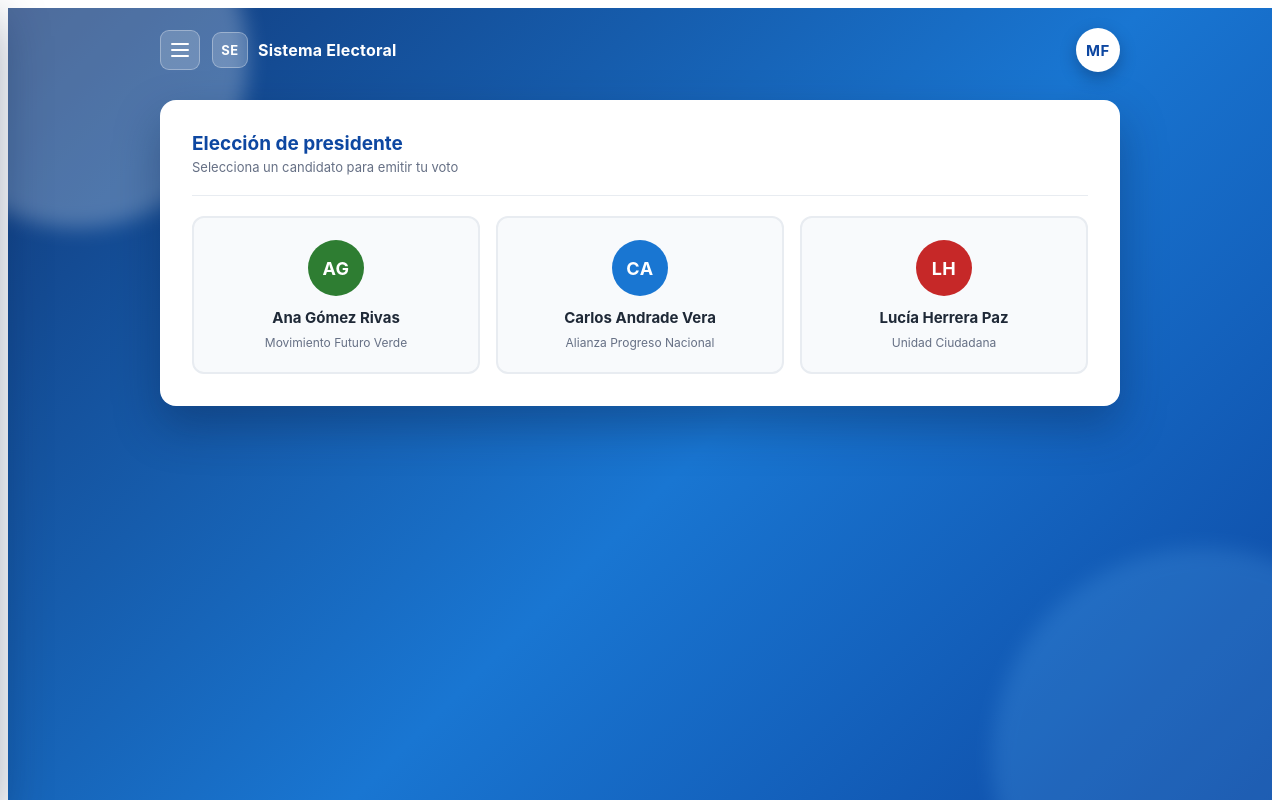
Scenario: PageDatosVotanteComponent › should toggle the dropdown when the avatar is clicked twice
This screenshot has width=1280, height=800.
Click the button with id "avatar-usuario": click(1098, 50) [1076,28,1120,72]
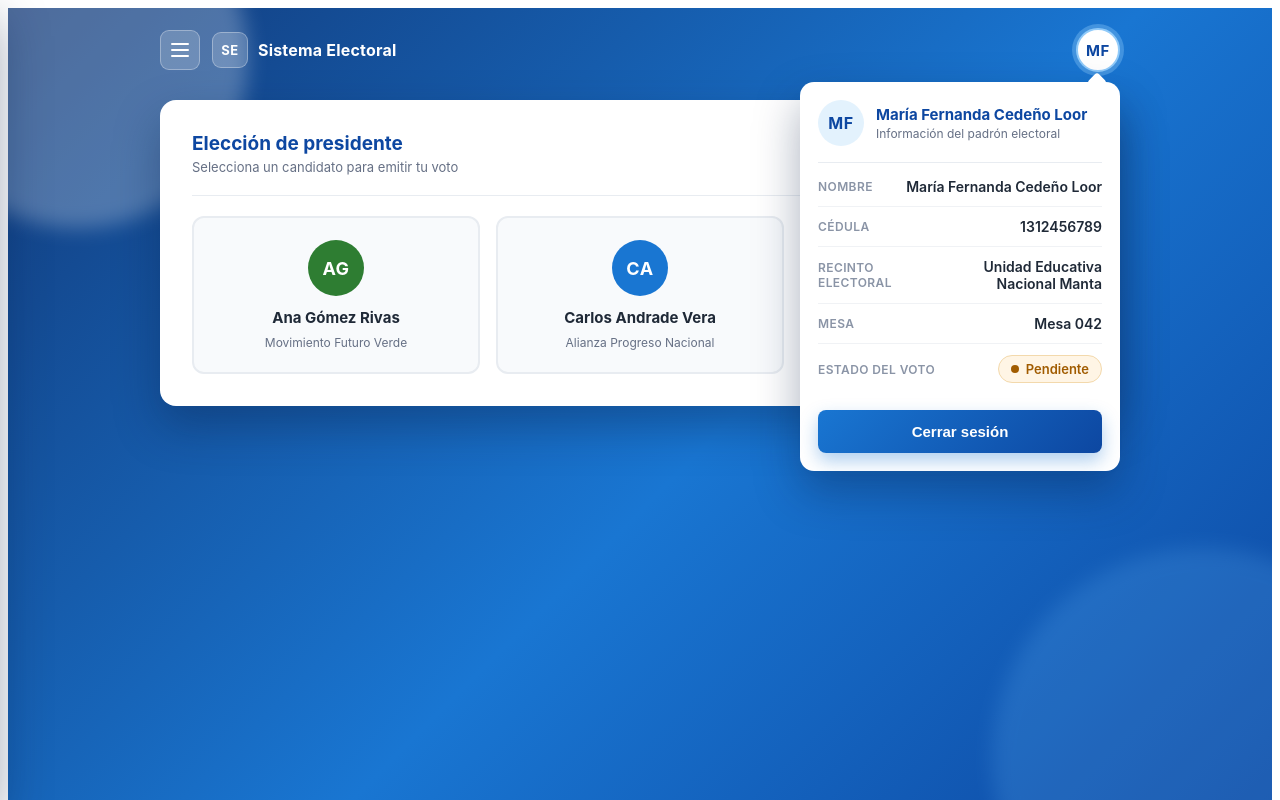
Click the button with id "avatar-usuario": click(1098, 50) [1076,28,1120,72]
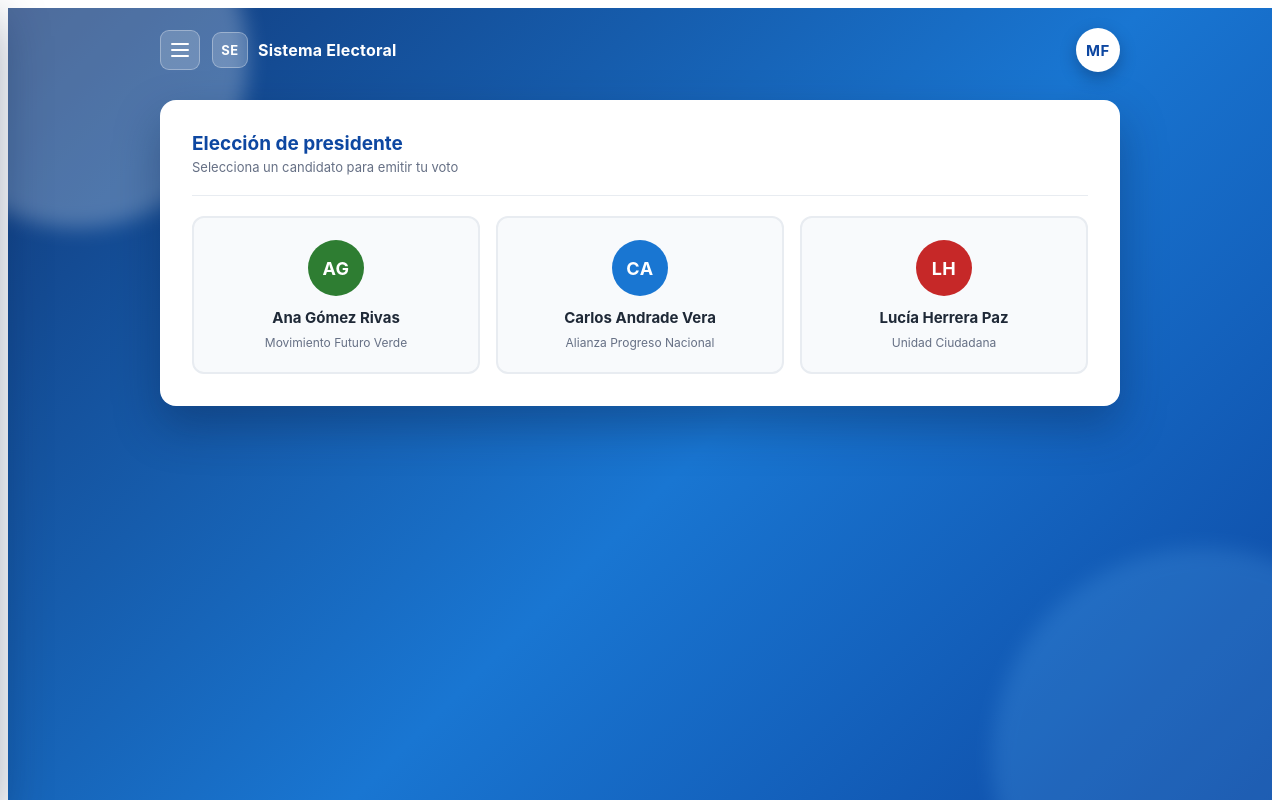
expect the menu with id "menu-usuario" is gone: met
